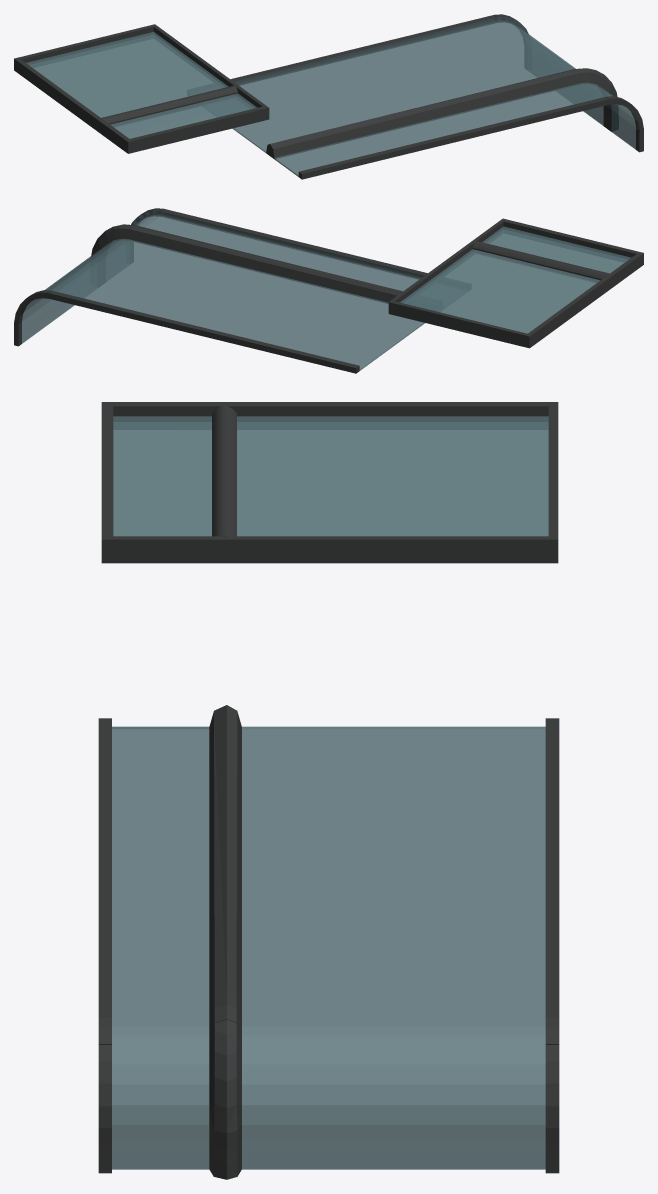
Rendered from Vidrio 1.fbx.
3 renders of one model, top to bottom at view 1: azimuth 30°, elevation 25°; view 2: azimuth 150°, elevation 25°; view 3: azimuth 270°, elevation 25°, orthographic. The views are drawn at different scales.
Visible parts, largest first — view 1: pCube1, pCube2; view 2: pCube1, pCube2; view 3: pCube1, pCube2.
Part boxes in pixels (left/top/right/bottom): pCube1: left=230, top=14, right=643, bottom=179; pCube2: left=14, top=24, right=269, bottom=153; pCube1: left=14, top=208, right=427, bottom=373; pCube2: left=388, top=218, right=643, bottom=348; pCube1: left=98, top=705, right=559, bottom=1179; pCube2: left=101, top=402, right=558, bottom=563.
Bounding box in the file's own units: 28.7 × 7.07 × 10.97.
